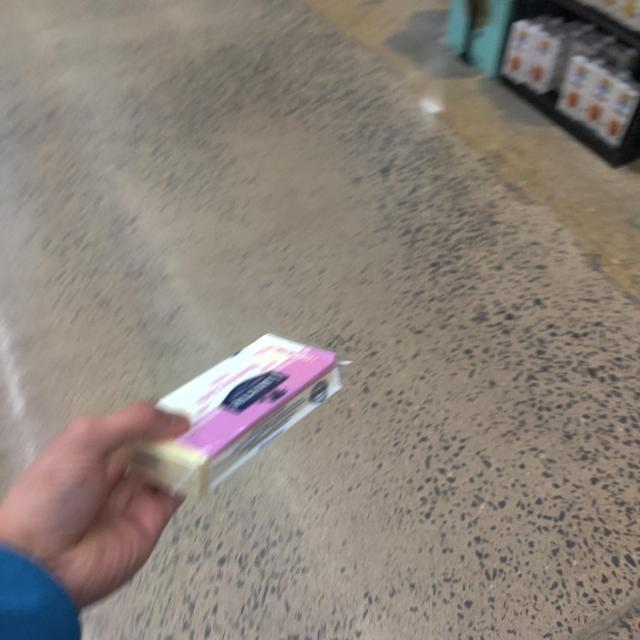Cheese: (108, 320, 362, 507)
